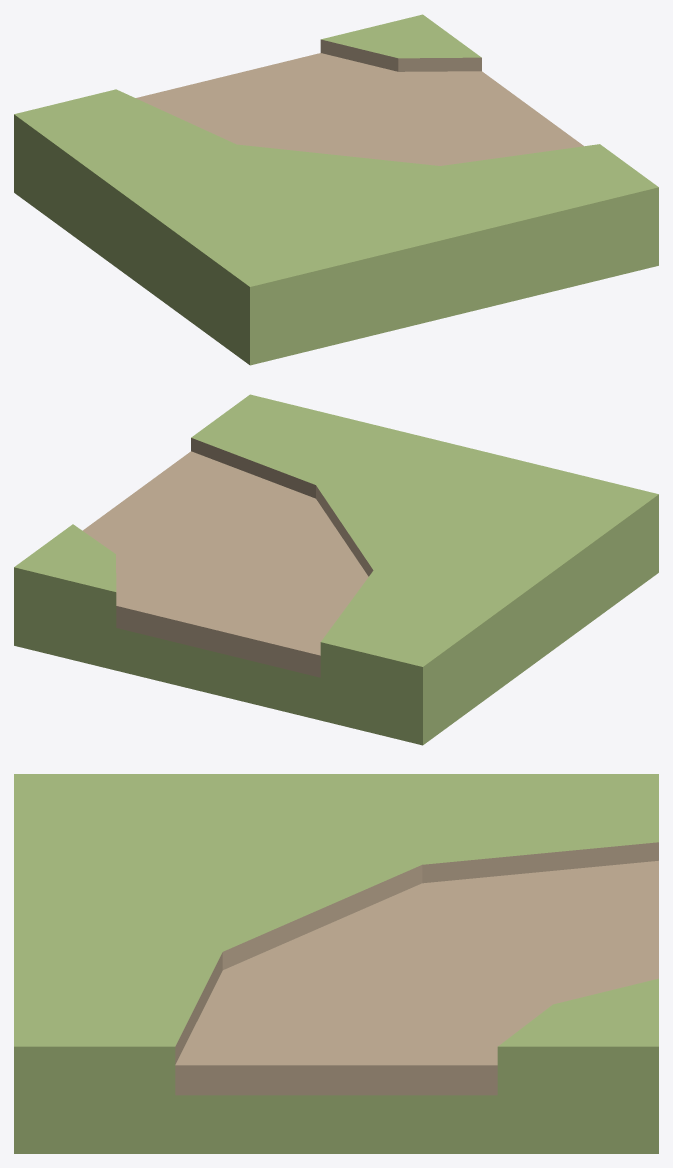
Rendered from SM_GRASS_02.fbx.
3 renders of one model, top to bottom at view 1: azimuth 30°, elevation 25°; view 2: azimuth 150°, elevation 25°; view 3: azimuth 270°, elevation 25°, orthographic. The views are drawn at different scales.
Parts seen in each view (by area): view 1: GRASS_02; view 2: GRASS_02; view 3: GRASS_02.
Part boxes in pixels (x1,y1,x2,y2): GRASS_02: (14, 14, 658, 365); GRASS_02: (14, 394, 658, 745); GRASS_02: (14, 774, 658, 1153).
Bounding box in the file's own units: 437 × 80.19 × 437.
